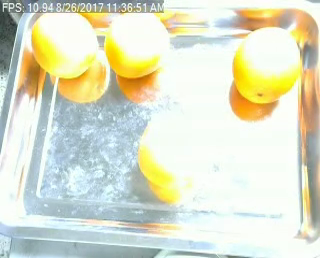Orange: (233, 26, 302, 102), (138, 109, 204, 183), (32, 10, 97, 79), (104, 10, 169, 79)
